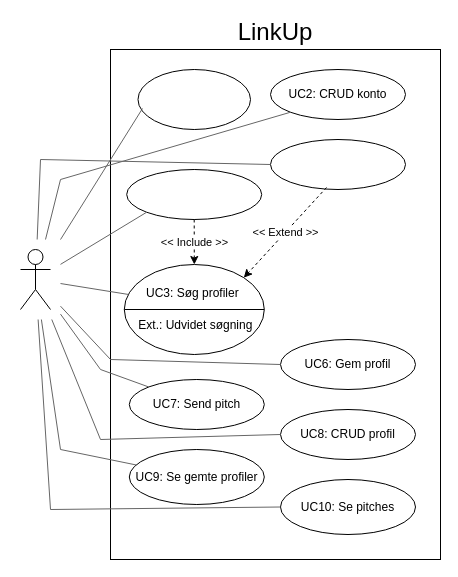
Some shapes in this 458 by 577 pixel diagram are drawn without their labels. Here are the shapes that lost their labels. From the top down, the centre of each, then its label:
(x=193, y=99): UC1: Log ind
(x=338, y=164): UC4: Udvid søgning
(x=194, y=194): UC5 : Se profiler
(x=35, y=279): Bruger
